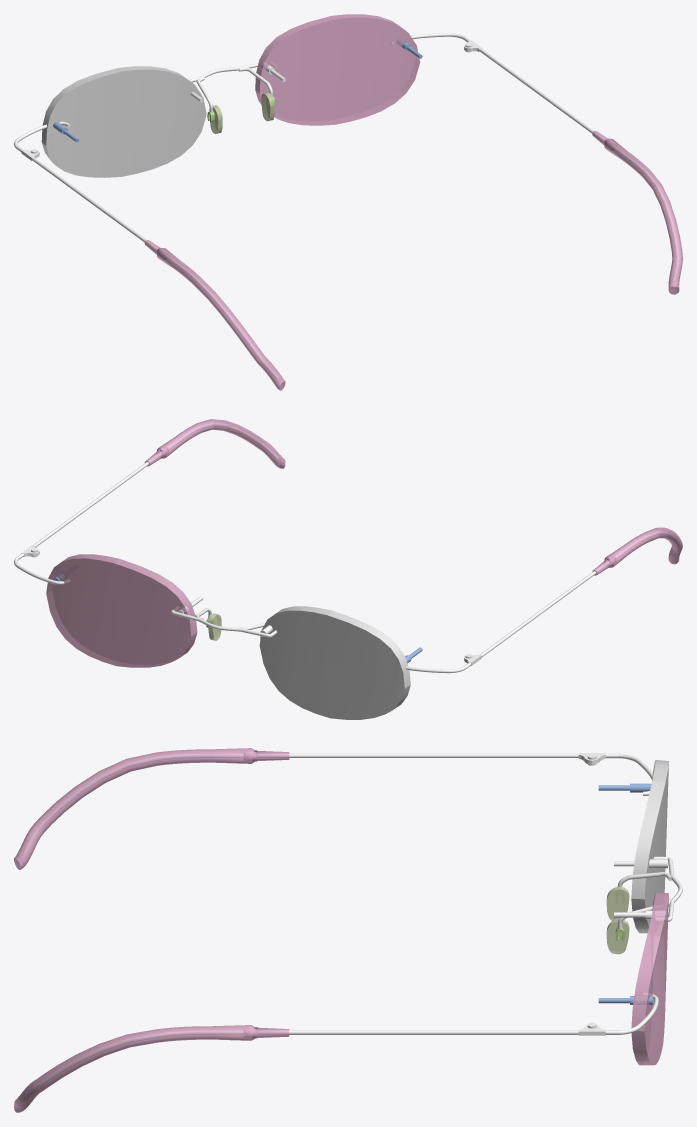
Rendered from glasses.fbx.
The picture shows the model from 3 angles, top to bottom: view 1: azimuth 30°, elevation 25°; view 2: azimuth 150°, elevation 25°; view 3: azimuth 270°, elevation 25°; orthographic projection. The views are drawn at different scales.
Visible parts, largest first — view 1: Circle2, Circle02, Loft08, Loft05, Loft07, Loft04; view 2: Circle2, Circle02, Loft05, Loft08, Loft04, Loft07, Loft01; view 3: Circle02, Loft08, Loft05, Circle2, Loft07, Loft04, Rectangle10, Rectangle03.
Part boxes in pixels (x1,y1,x2,y2): Circle2: (41,66,206,177); Circle02: (255,14,420,125); Loft08: (144,240,285,390); Loft05: (592,131,682,294); Loft07: (32,157,277,378); Loft04: (479,48,678,281); Circle2: (259,606,410,719); Circle02: (46,554,197,667); Loft05: (144,419,285,468); Loft08: (592,527,682,575); Loft04: (33,423,278,547); Loft07: (480,531,678,656); Loft01: (171,606,277,637); Circle02: (631,892,668,1065); Loft08: (14,748,289,869); Loft05: (14,1025,289,1112); Circle2: (631,760,668,933); Loft07: (23,753,578,854); Loft04: (23,1030,578,1100); Rectangle10: (606,886,629,920); Rectangle03: (606,919,629,954).
Size of the model in its own units: 100 by 23.77 by 99.68.
